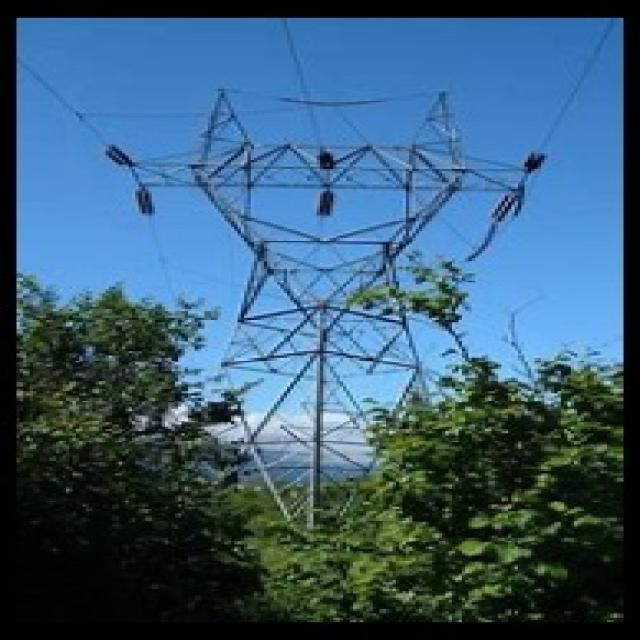utility poles: (340, 248, 576, 452), (128, 274, 287, 498)
